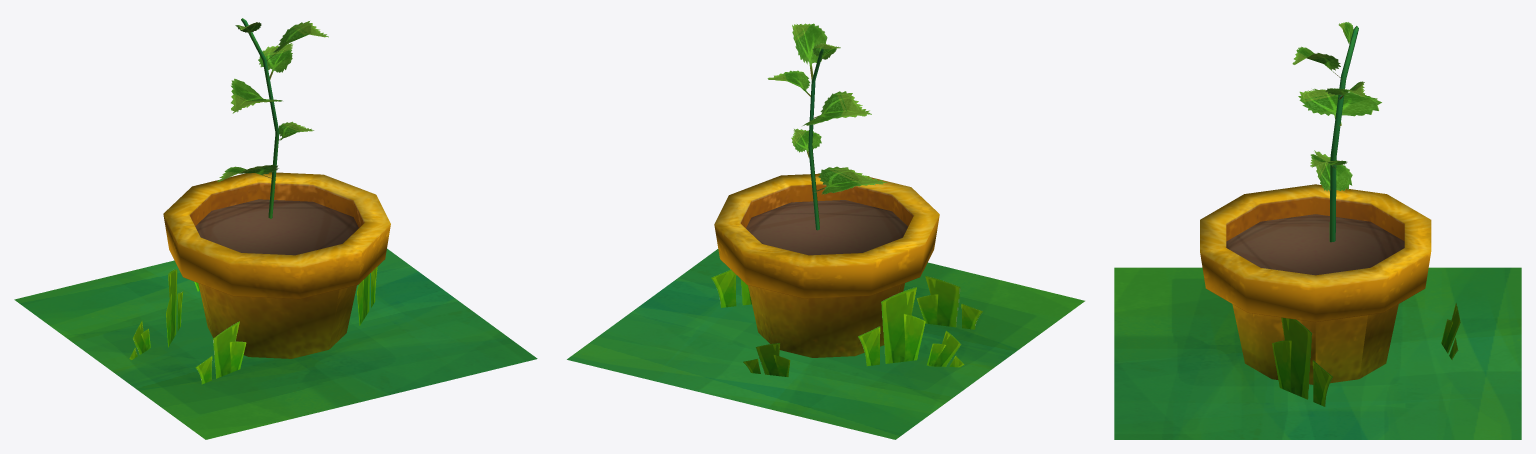
The model's file is girasol3.obj.
3 views of the same model, side by side, from view 1: azimuth 30°, elevation 25°; view 2: azimuth 150°, elevation 25°; view 3: azimuth 270°, elevation 25° (orthographic). The views are drawn at different scales.
Visible parts, largest first — view 1: Stylizedplants_model.001; view 2: Stylizedplants_model.001; view 3: Stylizedplants_model.001.
Part boxes in pixels (x1,y1,x2,y2): Stylizedplants_model.001: (14, 18, 537, 439); Stylizedplants_model.001: (567, 23, 1084, 439); Stylizedplants_model.001: (1114, 22, 1521, 439).
Bounding box in the file's own units: 45.19 × 41.45 × 45.19.
Materials: 1 (1 with a texture image).
